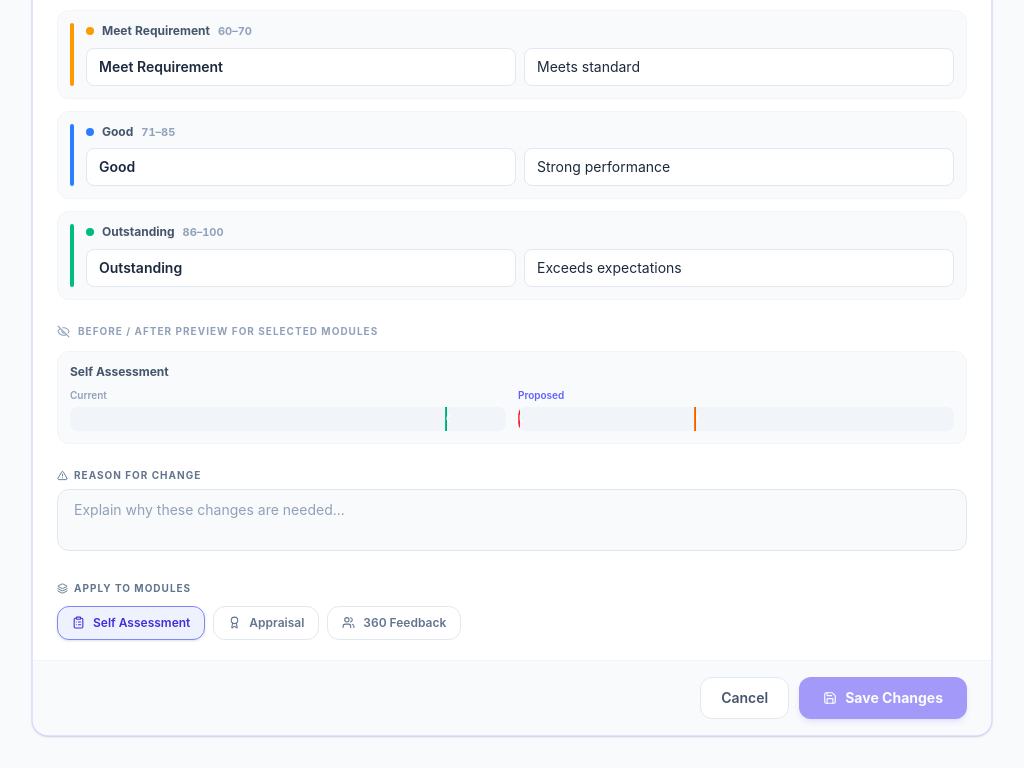
Test: EditScoreBoundariesPage › save button is enabled with valid data and reason
The width and height of the screenshot is (1024, 768).
(page scrolled)
In the text box with placeholder "Explain why these changes are needed...": (512, 520) top-left (57, 488), bottom-right (967, 550), type "Updating ranges for clarity"
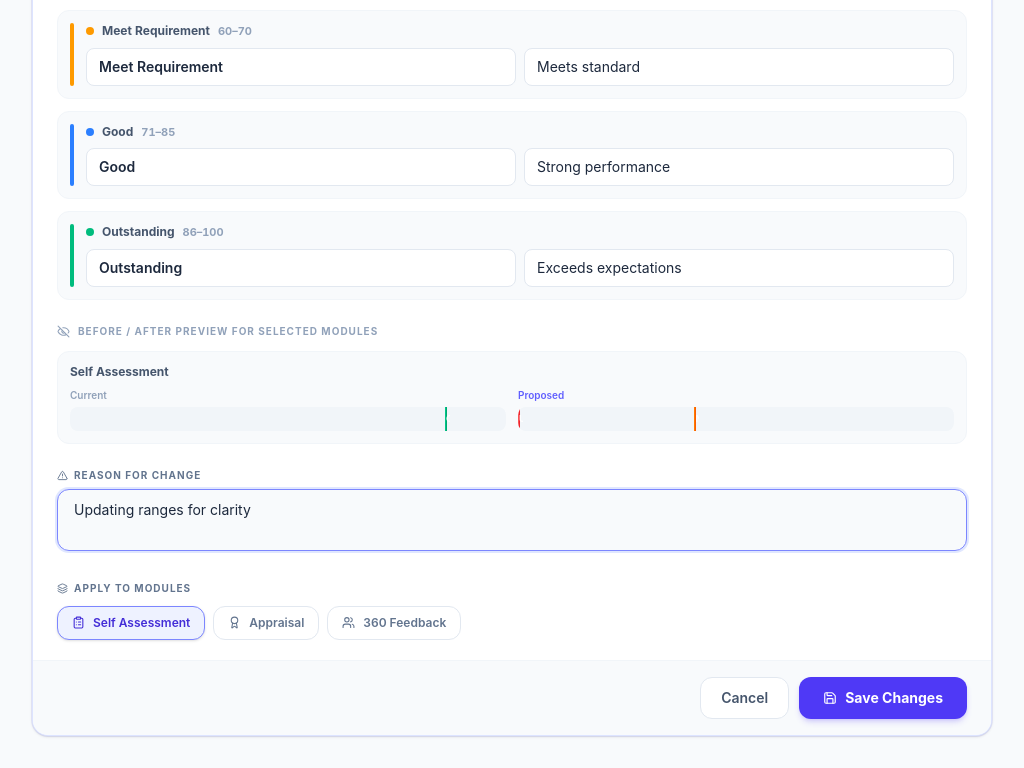
Now the button "Save Changes" is enabled, box top-left (799, 676), bottom-right (967, 718)
